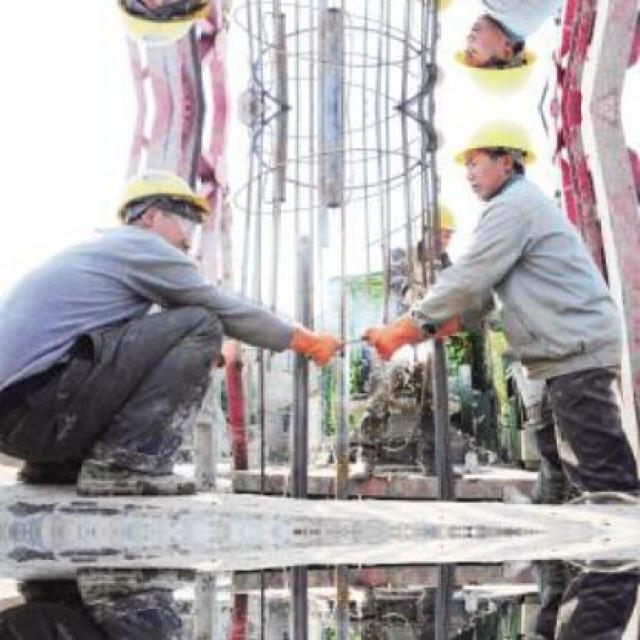helmet: (104, 160, 225, 254), (450, 114, 550, 198), (450, 18, 550, 102), (103, 0, 226, 56)
